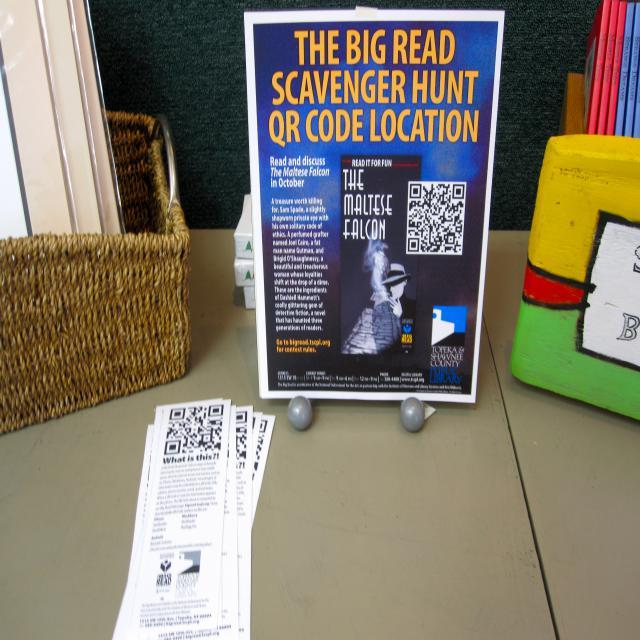qrcode: (409, 185, 466, 254), (165, 405, 225, 456), (253, 421, 269, 483), (237, 412, 248, 461)
